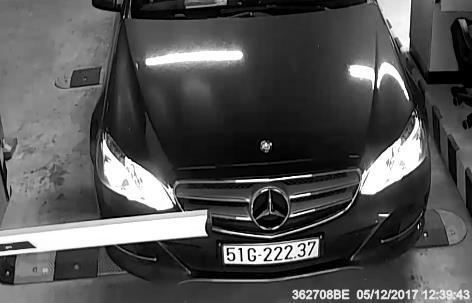License-plate: (217, 234, 333, 271)
